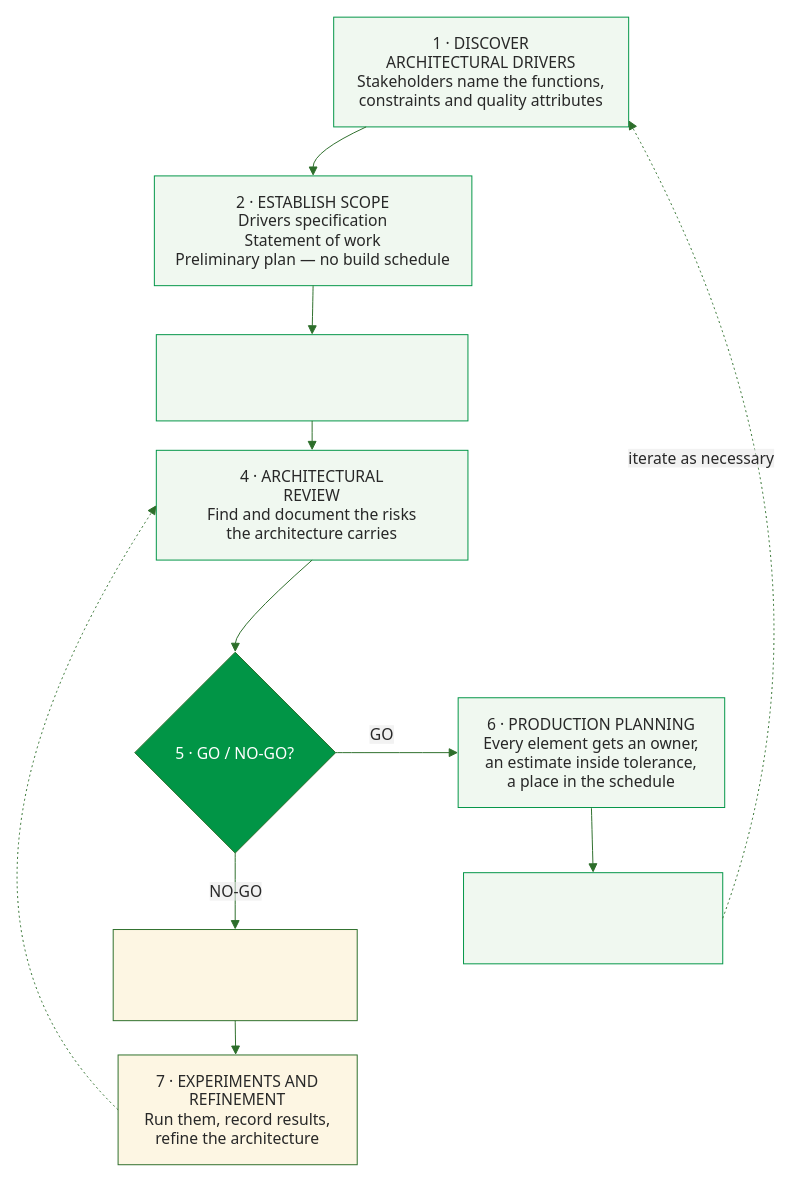
The diagram is 792 pixels wide and 1182 high, and some of its shapes have lost their labels. The box of each missing label's shape, as (x1, y1, x2, y2) in pixels:
3 · NOTIONAL ARCHITECTURE Run-time, code and physical views: (155, 334, 468, 421)
6 · EXPERIMENT PLANNING One targeted prototype per open risk: (112, 929, 357, 1021)
7 · PRODUCTION Build, integrate, test — whole system or increments: (463, 872, 723, 964)
